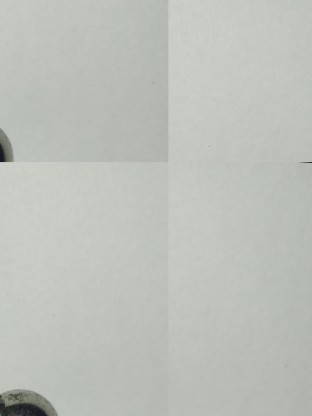ironball: (0, 384, 65, 414)
